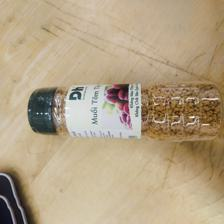TayNinh_green: (26, 81, 224, 142)
